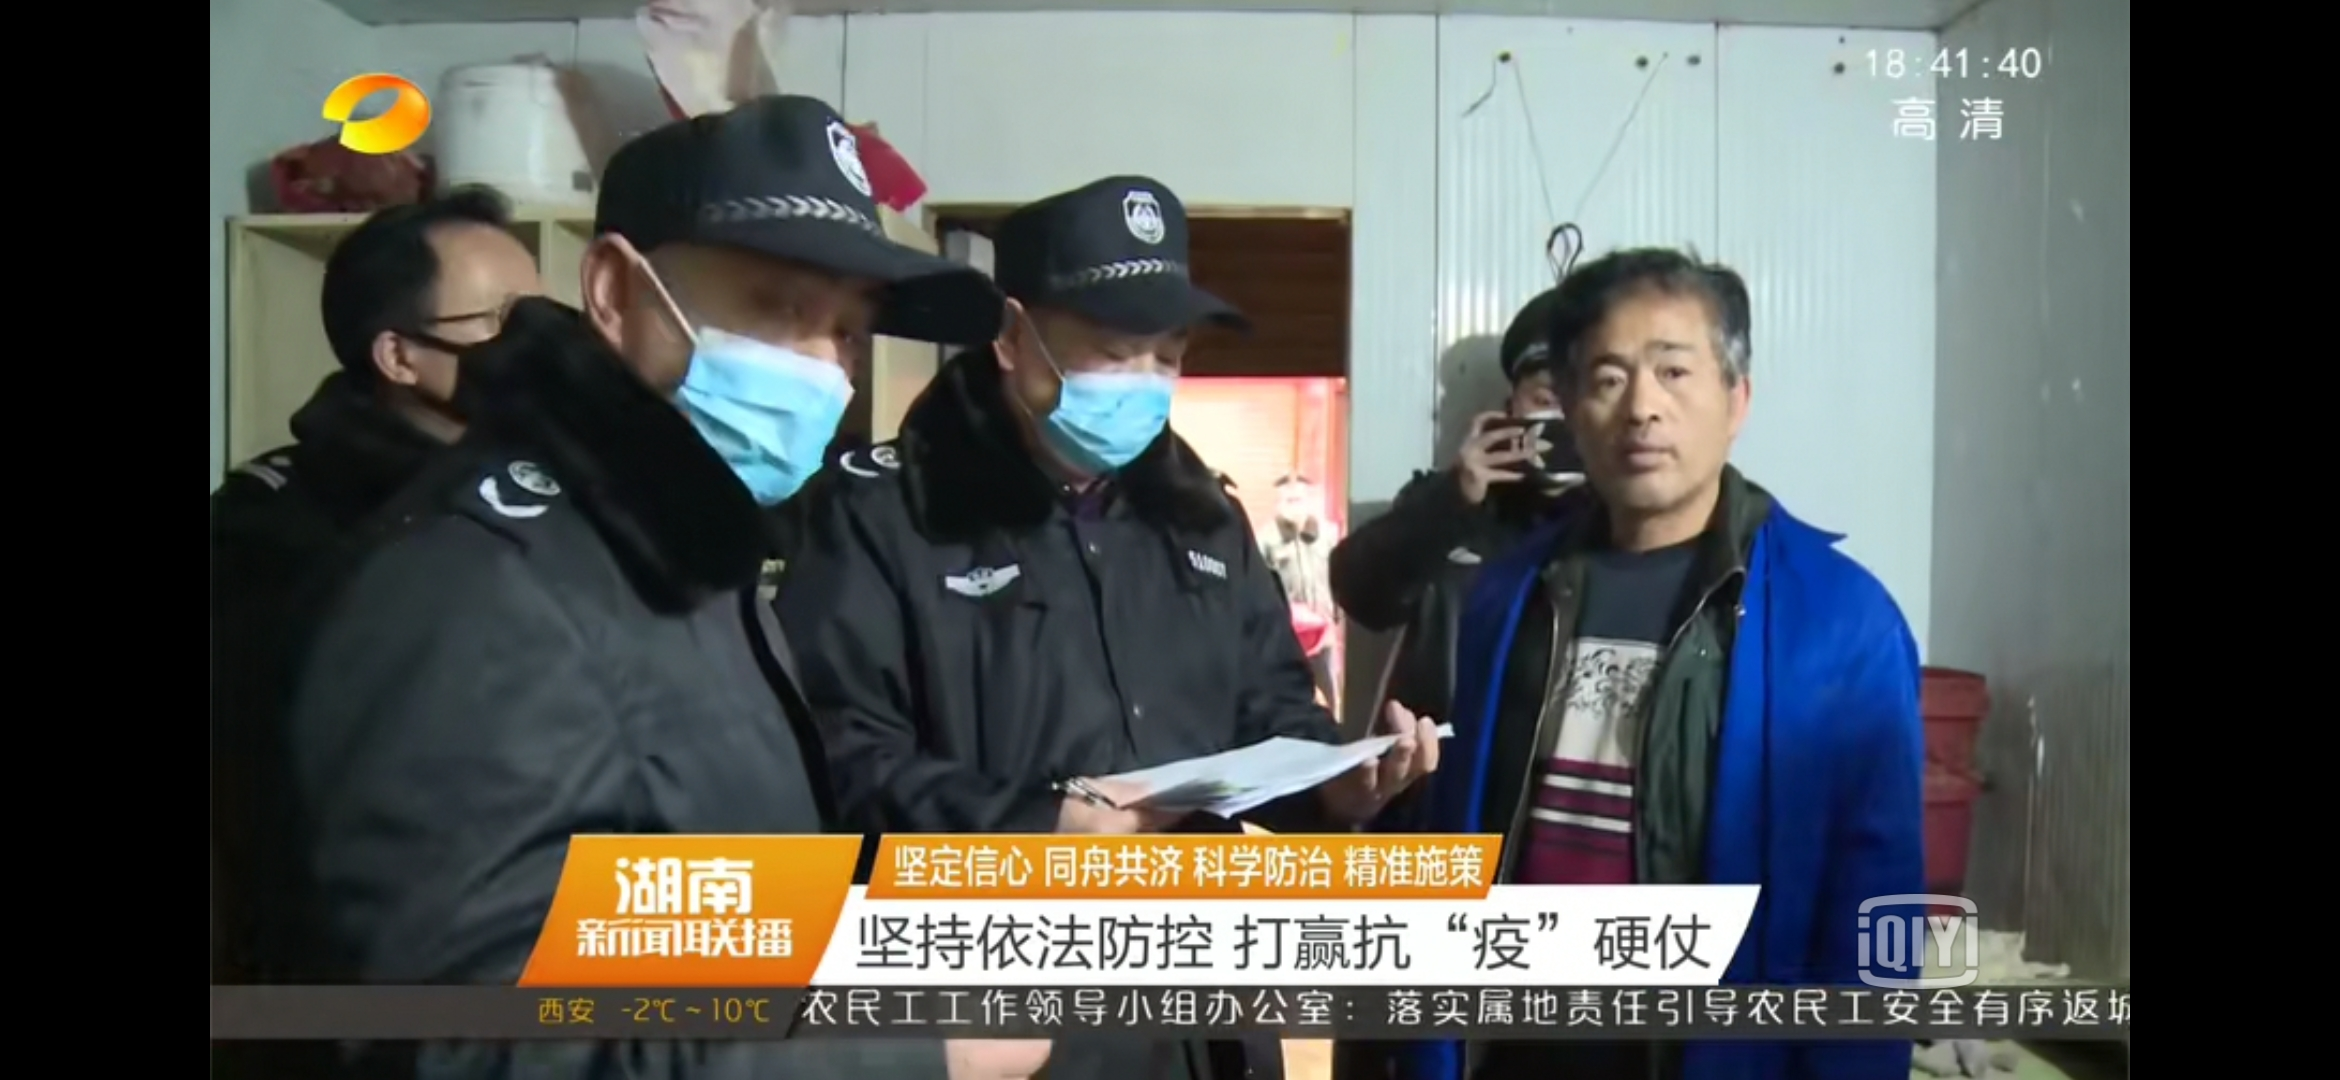correctlyWear: (639, 240, 885, 506), (1010, 310, 1191, 485), (375, 292, 521, 424), (1512, 373, 1583, 492)
noWear: (1571, 342, 1748, 516)
